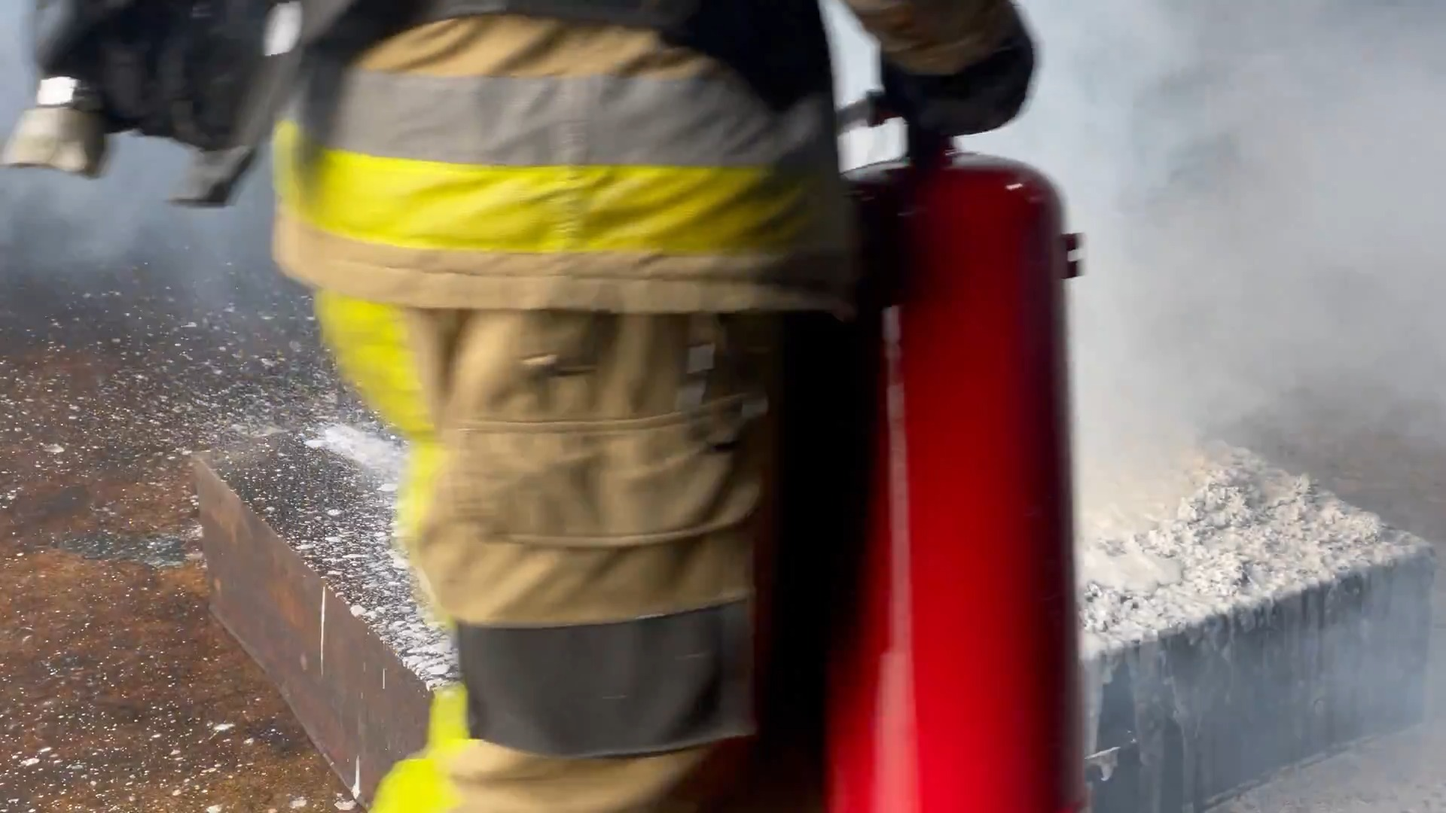smoke: (946, 25, 1423, 507)
